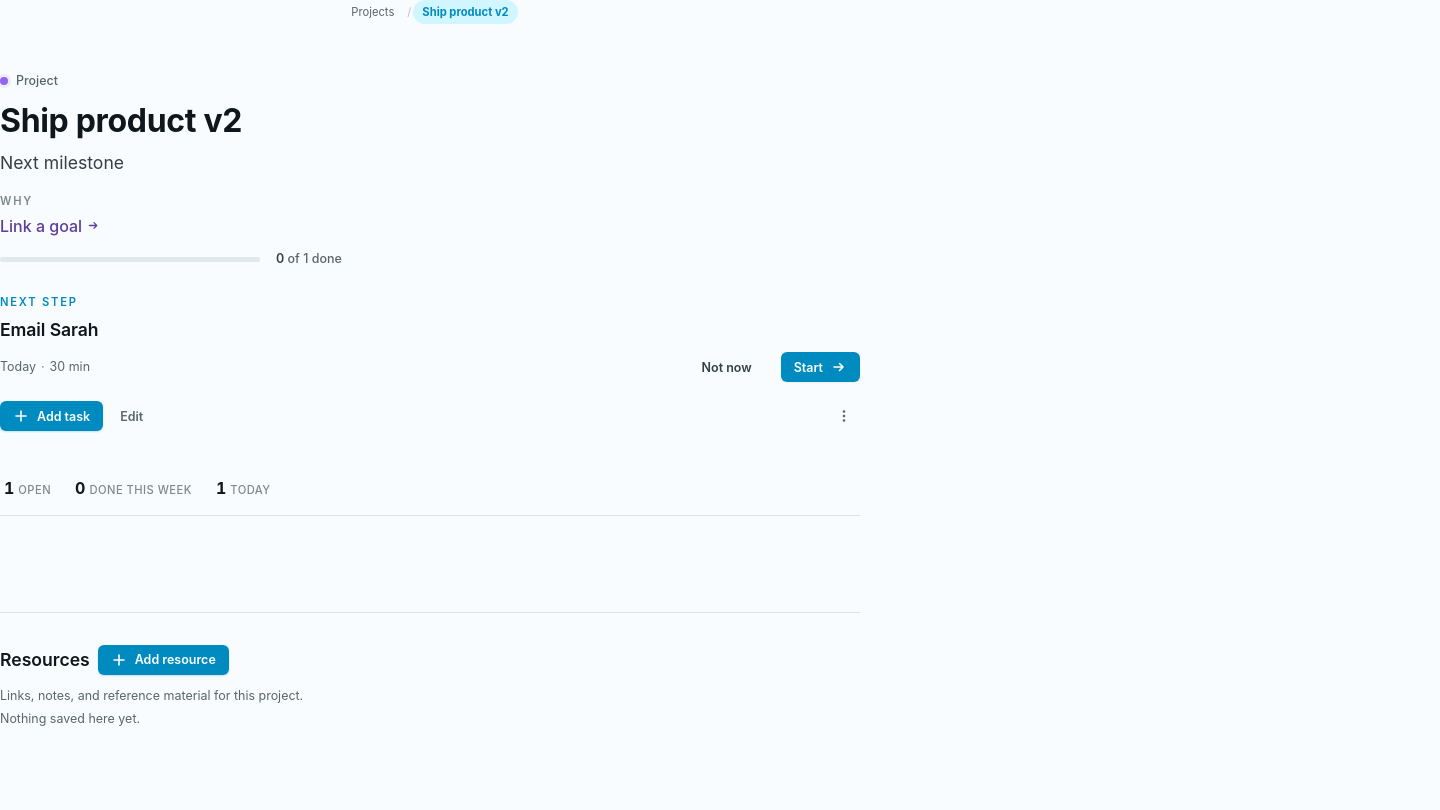
Test case: ProjectDetailPage — lifecycle management › offers all three task dispositions when deleting a project with tasks
Click the button named "Project actions" at [844, 416], box x1=828 y1=400 x2=860 y2=432
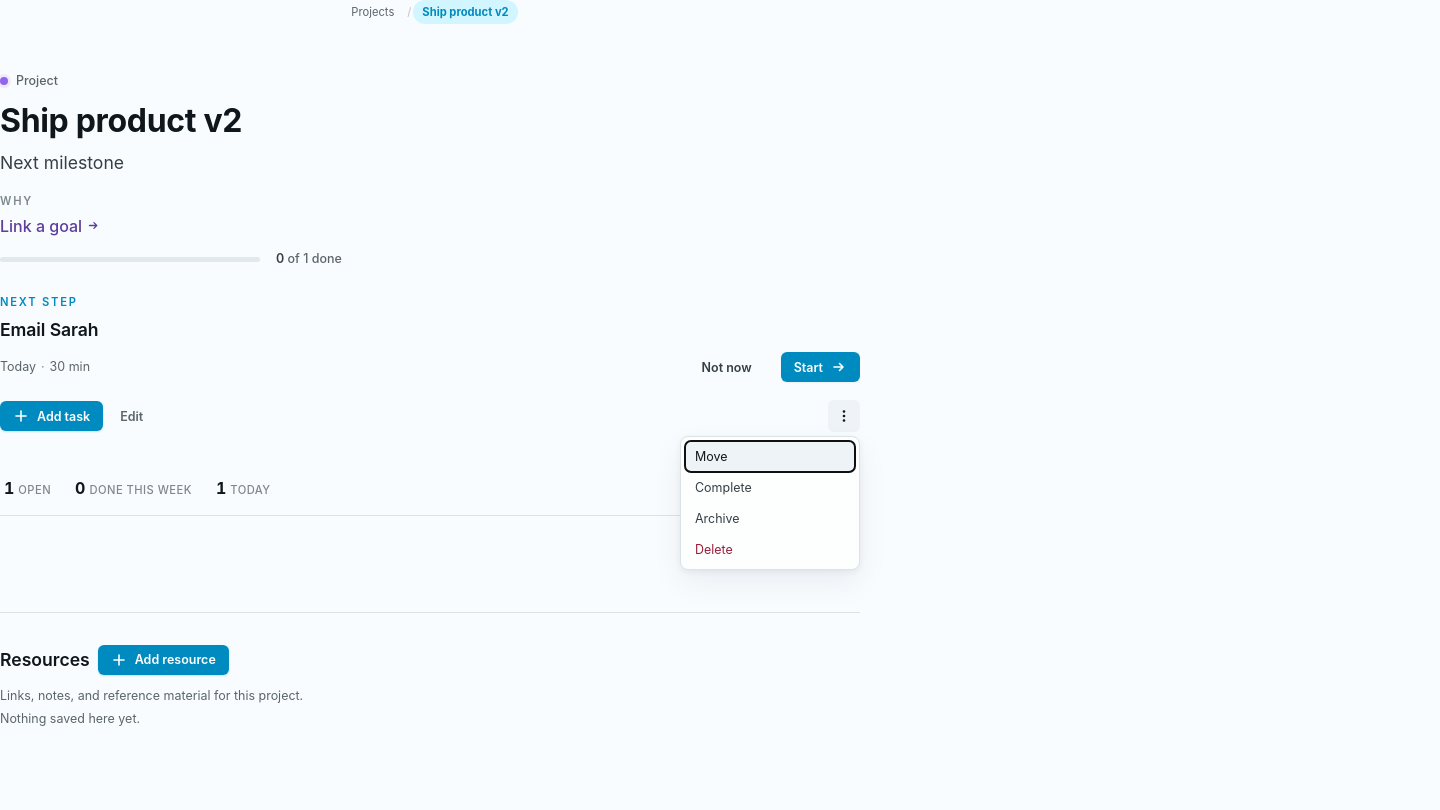
Click the menu item "Delete" at [770, 550], box x1=685 y1=534 x2=855 y2=565
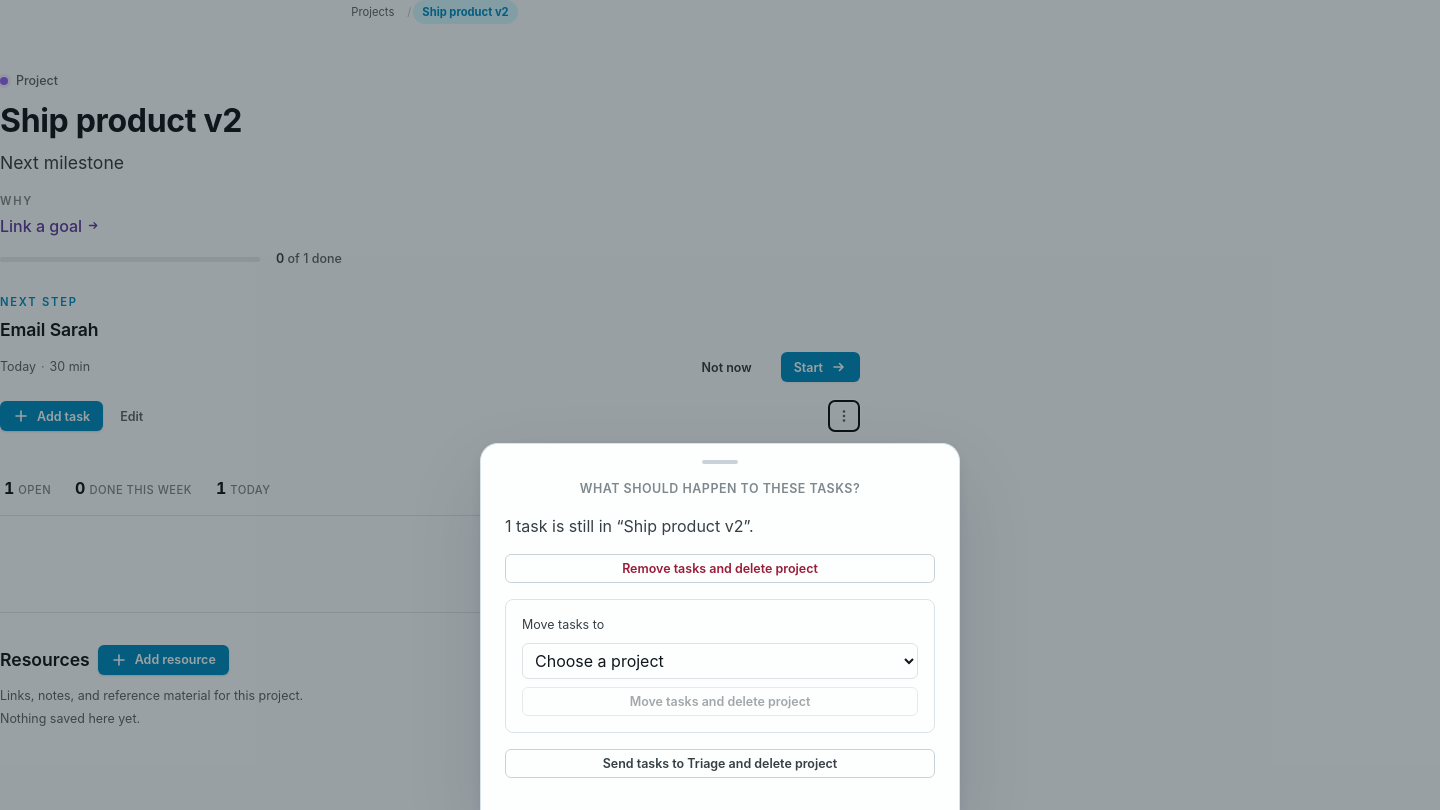
expect the button "Remove tasks and delete project" is shown: met, box x1=505 y1=554 x2=935 y2=583
expect the button "Move tasks and delete project" is shown: met, box x1=522 y1=687 x2=918 y2=716
expect the button "Send tasks to Triage and delete project" is shown: met, box x1=505 y1=749 x2=935 y2=778
